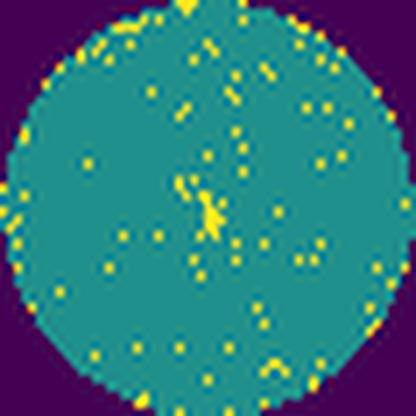Center: (198, 190, 228, 243)
